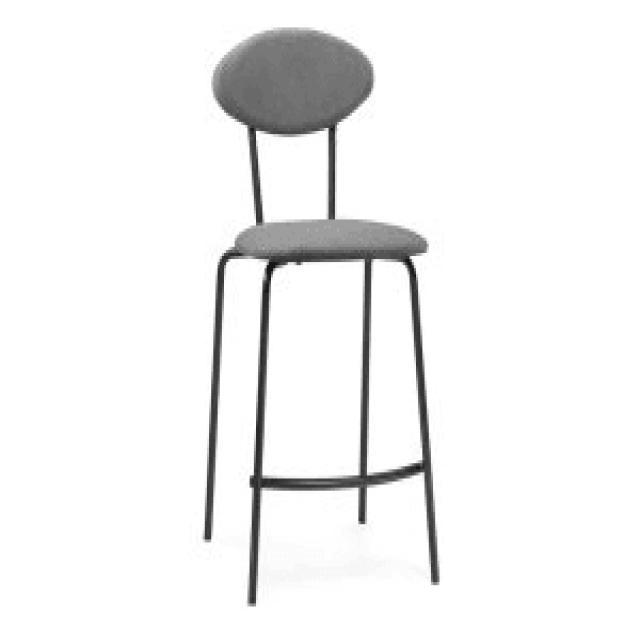chair: (200, 22, 442, 606)
